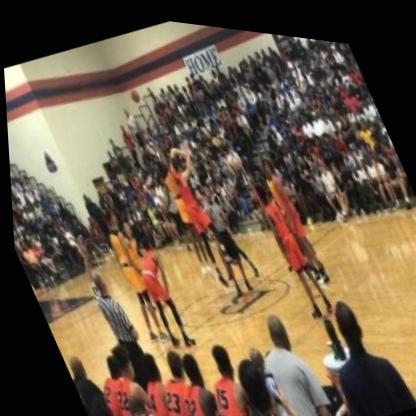basketball: (125, 82, 142, 103)
